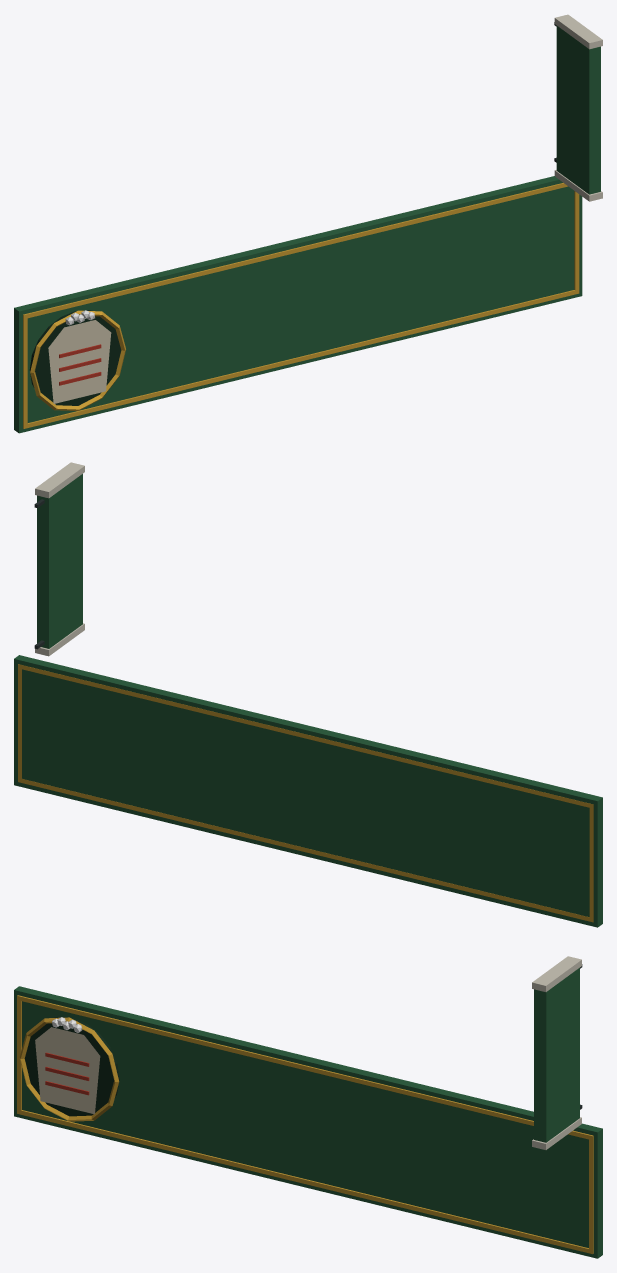
The model's file is bang_tap_hoa_thu_ha_60.glb.
3 renders of one model, top to bottom at view 1: azimuth 30°, elevation 25°; view 2: azimuth 150°, elevation 25°; view 3: azimuth 330°, elevation 25°, orthographic. The views are drawn at different scales.
Parts seen in each view (by area): view 1: bang_tap_hoa_thu_ha_60; view 2: bang_tap_hoa_thu_ha_60; view 3: bang_tap_hoa_thu_ha_60.
Boxes of the visible parts, left/top/right/bottom form: bang_tap_hoa_thu_ha_60: left=14, top=14, right=602, bottom=433; bang_tap_hoa_thu_ha_60: left=14, top=462, right=602, bottom=927; bang_tap_hoa_thu_ha_60: left=14, top=956, right=602, bottom=1258.
Bounding box in the file's own units: 5.8 × 2.81 × 0.722.
